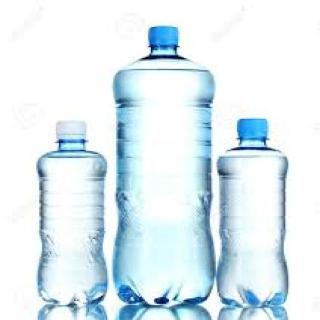Anorganik: (109, 22, 212, 320), (32, 111, 110, 309), (221, 112, 290, 312)
